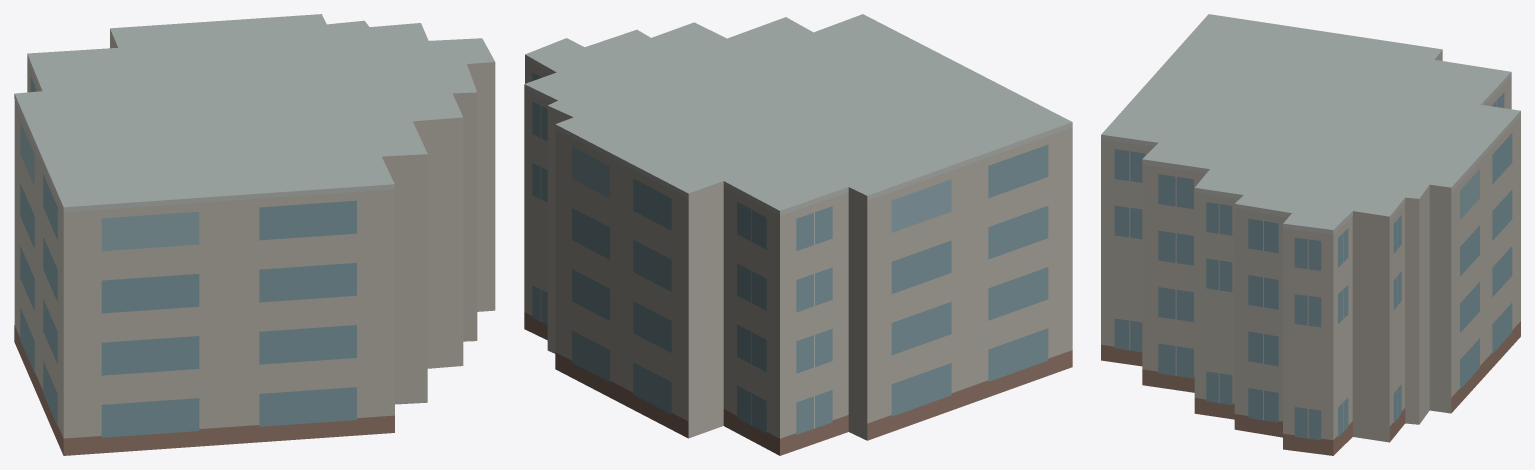
Rendered from survey-upis-32802933.glb.
3 renders of one model, left to right at view 1: azimuth 30°, elevation 25°; view 2: azimuth 150°, elevation 25°; view 3: azimuth 270°, elevation 25°, orthographic. The views are drawn at different scales.
Parts seen in each view (by area): view 1: survey-upis-32802933.tmp; view 2: survey-upis-32802933.tmp; view 3: survey-upis-32802933.tmp.
Part boxes in pixels (x1,y1,x2,y2): survey-upis-32802933.tmp: (14,14,495,455); survey-upis-32802933.tmp: (524,14,1072,455); survey-upis-32802933.tmp: (1101,14,1520,455).
Size of the model in its own units: 24.42 by 11.9 by 20.05.
